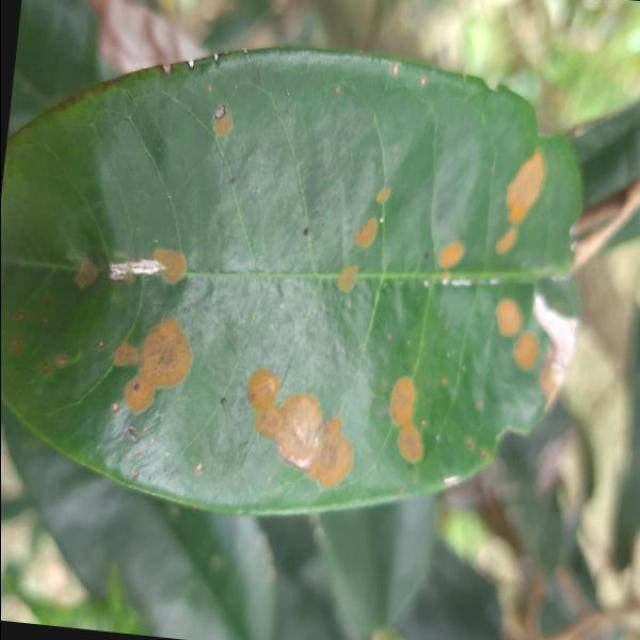Algal Leaf Spot: (0, 12, 609, 558)
